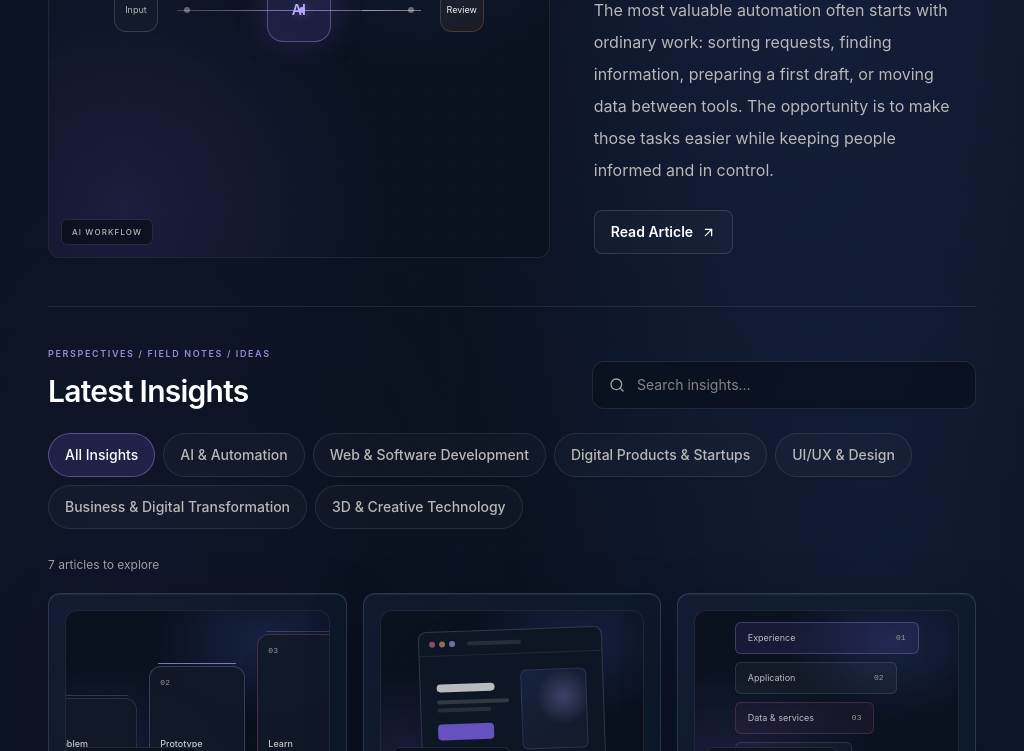
<InsightsOverview /> › supports live search across article keywords and clears the query
This screenshot has width=1024, height=751.
(page scrolled)
In the search field labelled "Search insights": [798, 384] box [637,366,959,402], type "prototyping"
(page scrolled)
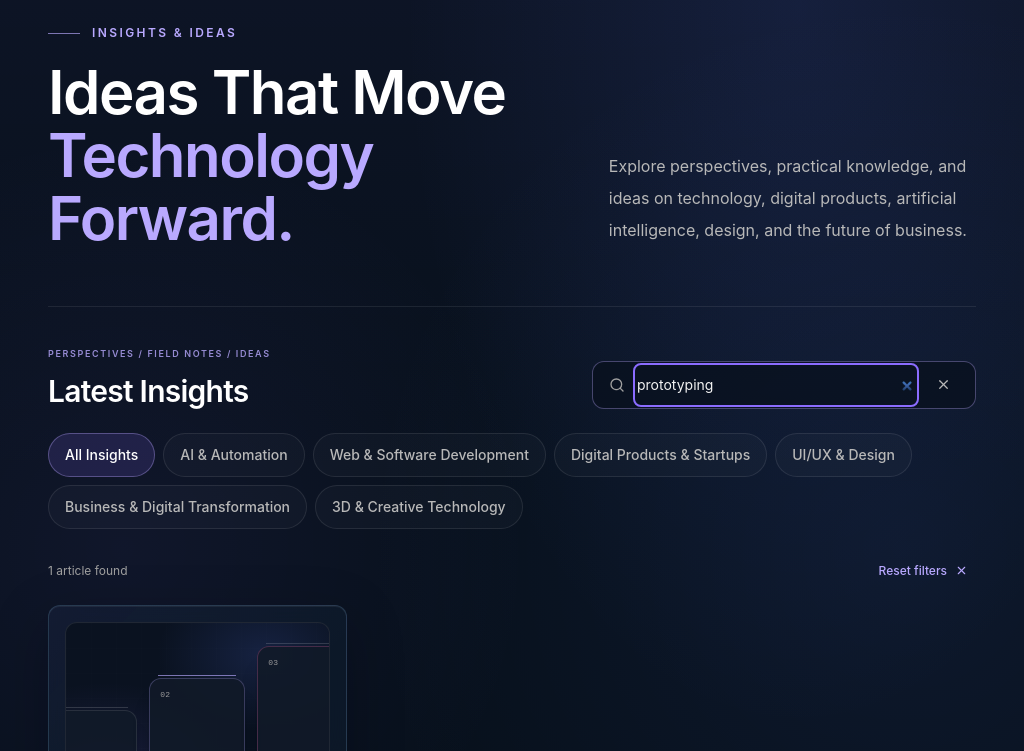
Expected: the button named "Clear search" is shown
Click the button named "Clear search": [943, 384] box [927,368,959,400]
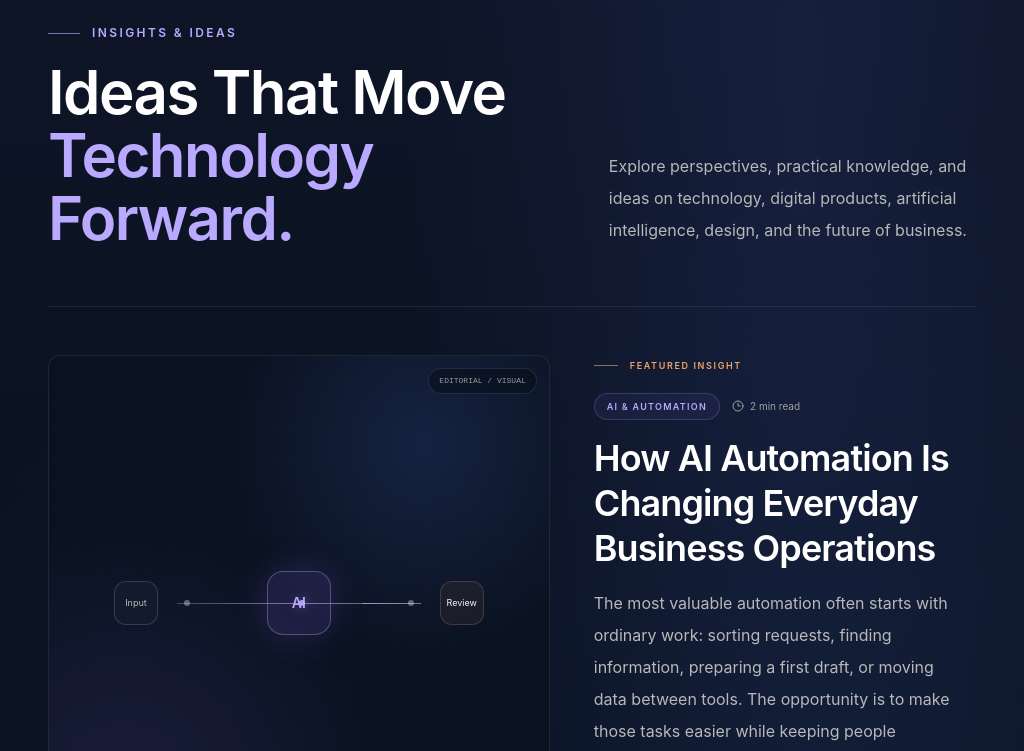
Expected: the text "Featured insight" is shown, [630,360,742,371]
